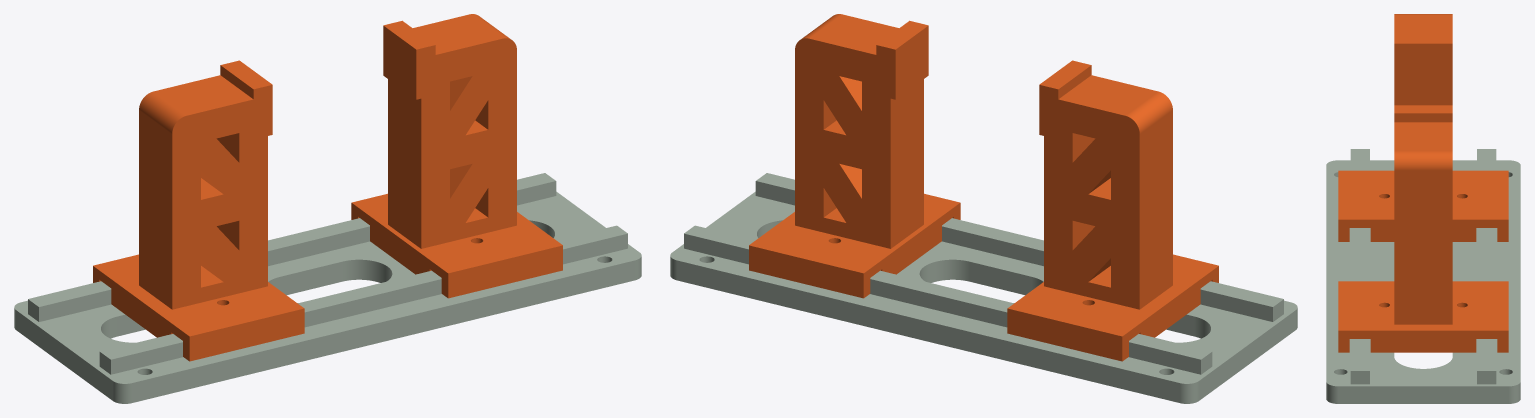
The picture shows the model from 3 angles, left to right: view 1: azimuth 30°, elevation 25°; view 2: azimuth 150°, elevation 25°; view 3: azimuth 270°, elevation 25°; orthographic projection. The views are drawn at different scales.
Visible parts, largest first — view 1: base, left, right; view 2: base, left, right; view 3: right, base, left.
Part boxes in pixels (<box>): base: <box>14,173,641,403</box>; left: <box>93,60,304,361</box>; right: <box>351,14,562,298</box>; base: <box>670,173,1297,403</box>; left: <box>1007,60,1218,361</box>; right: <box>749,14,960,298</box>; right: <box>1338,105,1508,352</box>; base: <box>1326,149,1520,403</box>; left: <box>1338,14,1508,241</box>.
Bounding box in the file's own units: 220 × 98.3 × 80.
